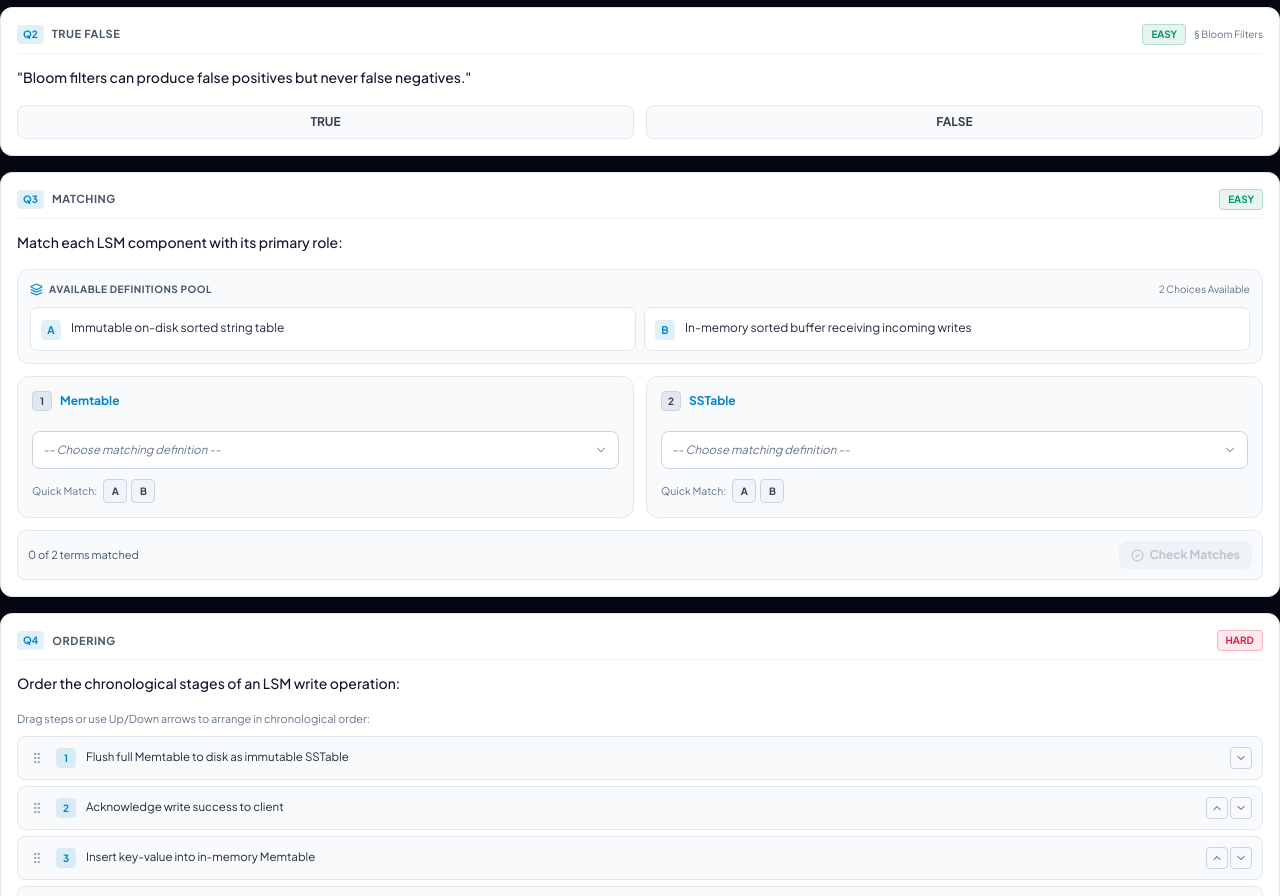
Test: QuizViewer Component › opens native readable dropdown menu for matching questions and selects choice
The width and height of the screenshot is (1280, 896).
Expected: the text "Available Definitions Pool" is shown, [49,282,212,297]
Click the button with aria-label "Select definition for Memtable": click(132, 450) [32,431,619,469]
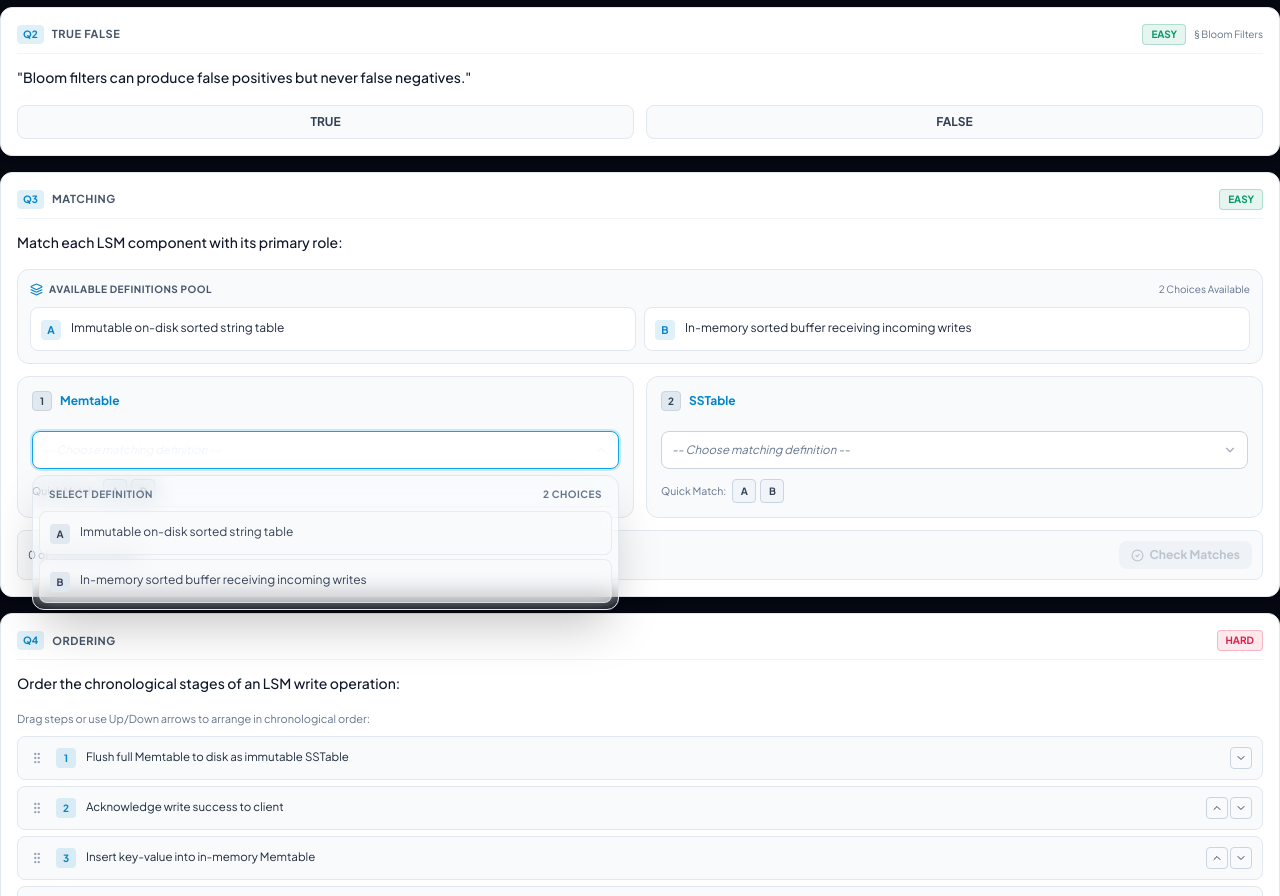
Expected: the list is shown, [32,475,619,610]
Expected: the text "SELECT DEFINITION" is shown, [49,486,153,502]
Expected: the number of options is 2
Click the option "B In-memory sorted buffer receiving incoming writes": click(326, 581) [39,559,612,603]
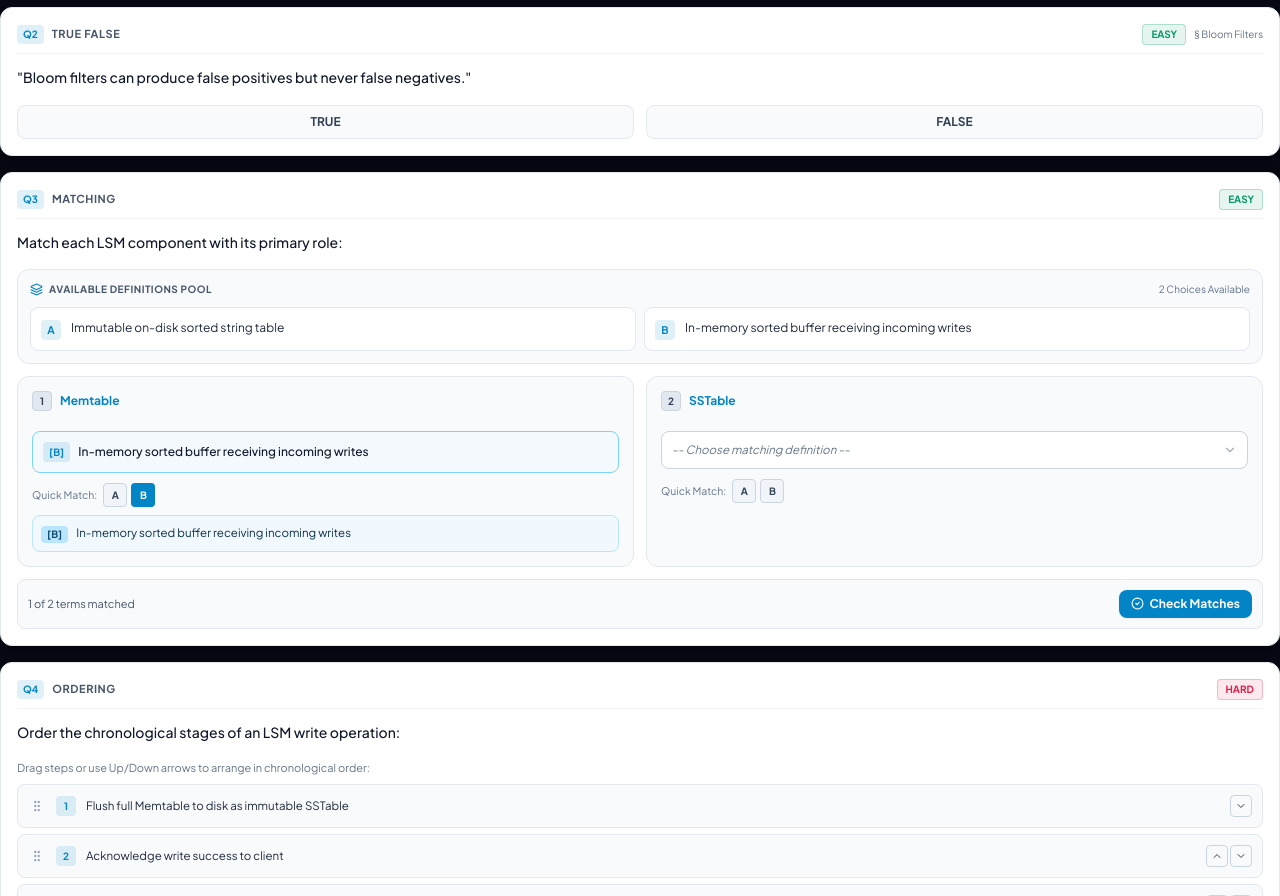
Expected: the list is gone
